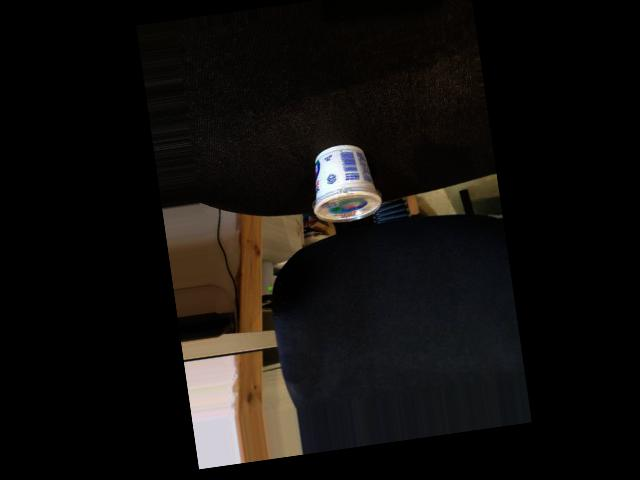cotage: (305, 133, 381, 228)
